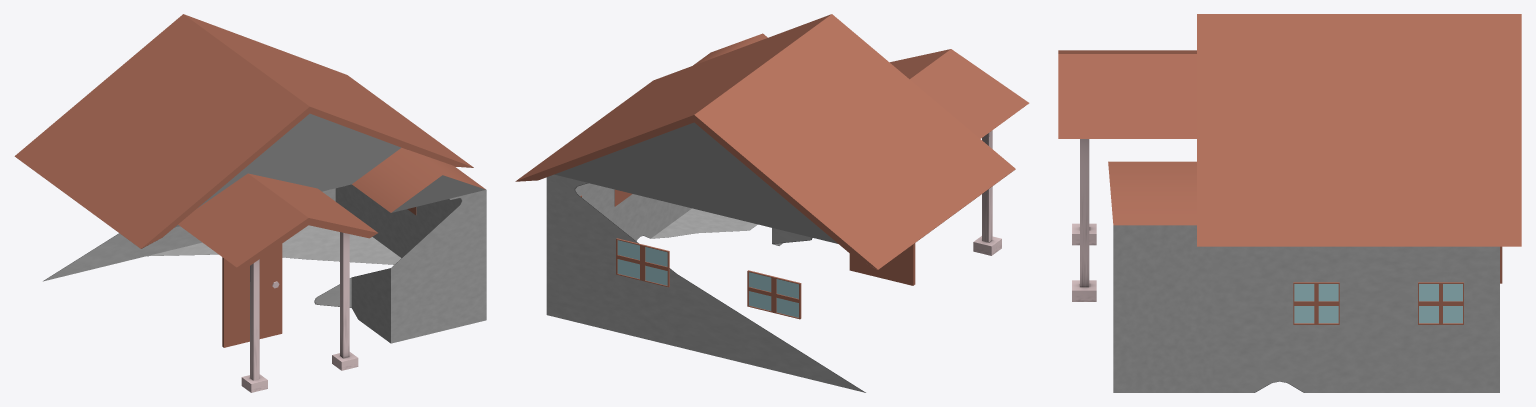
The model's file is Rumah-1 1.fbx.
The picture shows the model from 3 angles, left to right: view 1: azimuth 30°, elevation 25°; view 2: azimuth 150°, elevation 25°; view 3: azimuth 270°, elevation 25°; orthographic projection. The views are drawn at different scales.
Parts seen in each view (by area): view 1: Cylinder.002, Cube, Cylinder.003, Cylinder, Cylinder.001, Cube.009, Cube.001, Cube.002; view 2: Cylinder.002, Cube, Cylinder, Cylinder.003, Cube.008, Cube.007, Cube.009, Cube.002, Cylinder.001; view 3: Cylinder.002, Cube, Cylinder.003, Cylinder.001, Cube.006, Cube.005, Cube.001, Cube.003.
Part boxes in pixels (x1=…): Cylinder.002: x1=14, y1=14, x2=473, y2=248; Cube: x1=43, y1=184, x2=486, y2=343; Cylinder.003: x1=178, y1=173, x2=377, y2=268; Cylinder: x1=175, y1=113, x2=400, y2=227; Cylinder.001: x1=352, y1=147, x2=485, y2=212; Cube.009: x1=222, y1=244, x2=282, y2=347; Cube.001: x1=340, y1=232, x2=349, y2=358; Cube.002: x1=250, y1=259, x2=259, y2=380; Cylinder.002: x1=515, y1=14, x2=1015, y2=269; Cube: x1=546, y1=174, x2=865, y2=392; Cylinder: x1=554, y1=122, x2=837, y2=243; Cylinder.003: x1=890, y1=49, x2=1029, y2=138; Cube.008: x1=747, y1=270, x2=801, y2=319; Cube.007: x1=616, y1=238, x2=669, y2=287; Cube.009: x1=849, y1=243, x2=915, y2=285; Cube.002: x1=982, y1=130, x2=992, y2=242; Cylinder.001: x1=693, y1=33, x2=767, y2=65; Cylinder.002: x1=1197, y1=14, x2=1521, y2=246; Cube: x1=1113, y1=225, x2=1499, y2=392; Cylinder.003: x1=1058, y1=50, x2=1196, y2=138; Cylinder.001: x1=1108, y1=161, x2=1196, y2=225; Cube.006: x1=1293, y1=282, x2=1339, y2=324; Cube.005: x1=1418, y1=282, x2=1463, y2=324; Cube.001: x1=1080, y1=139, x2=1089, y2=287; Cube.003: x1=1072, y1=280, x2=1096, y2=301.
Bounding box in the file's own units: 2134 × 1378 × 2005.
